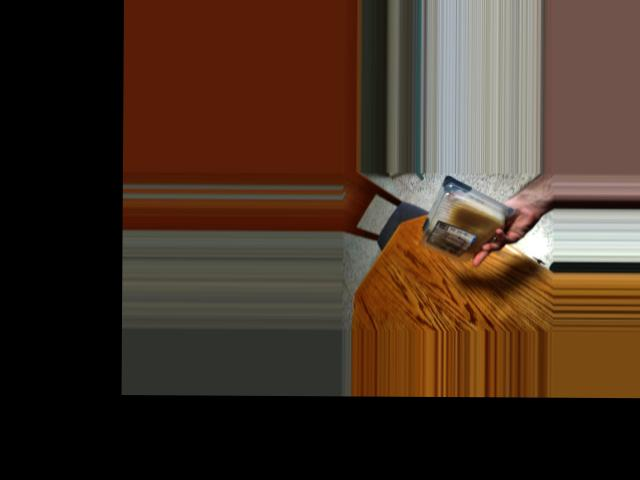cheese: (419, 182, 515, 248)
